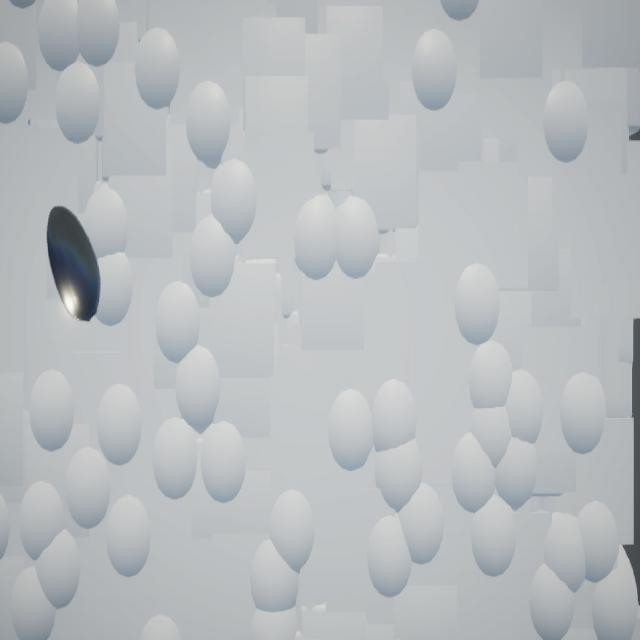top_spoon: (47, 207, 102, 324)
